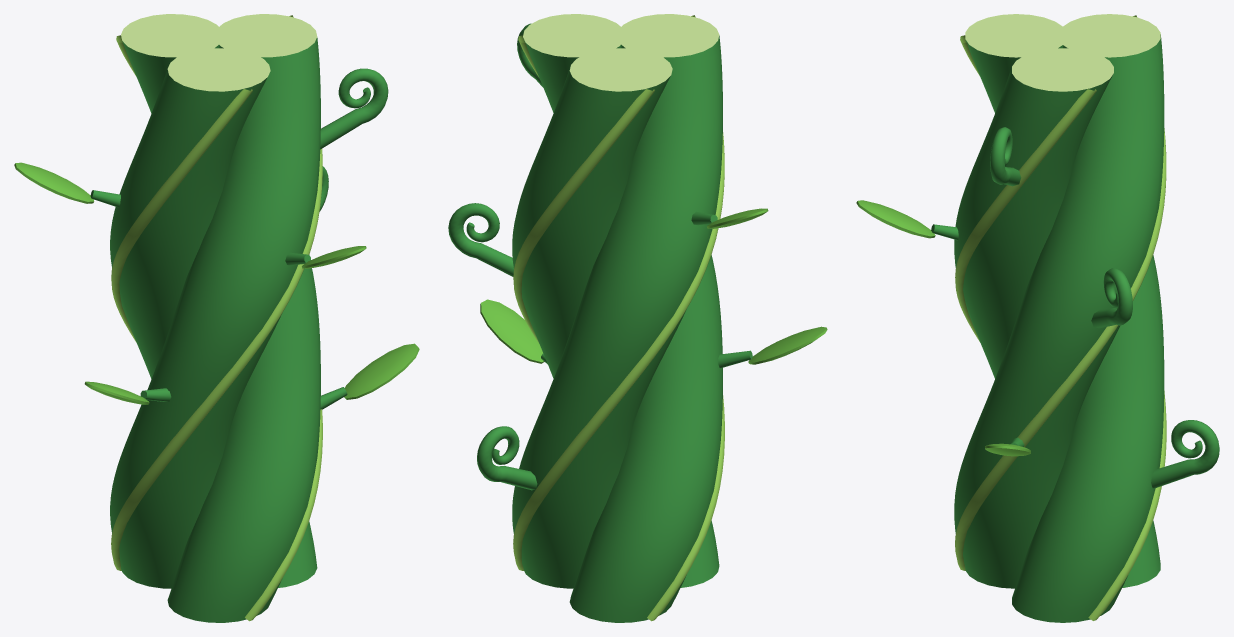
Rendered from beanstalk_segment.glb.
3 renders of one model, left to right at view 1: azimuth 30°, elevation 25°; view 2: azimuth 150°, elevation 25°; view 3: azimuth 270°, elevation 25°, orthographic.
Parts seen in each view (by area): view 1: beanstalk_segment; view 2: beanstalk_segment; view 3: beanstalk_segment.
Part boxes in pixels (left/top/right/bottom): beanstalk_segment: left=14, top=14, right=419, bottom=622; beanstalk_segment: left=448, top=14, right=827, bottom=622; beanstalk_segment: left=856, top=14, right=1219, bottom=622.
Bounding box in the file's own units: 6.76 × 10 × 6.2.
